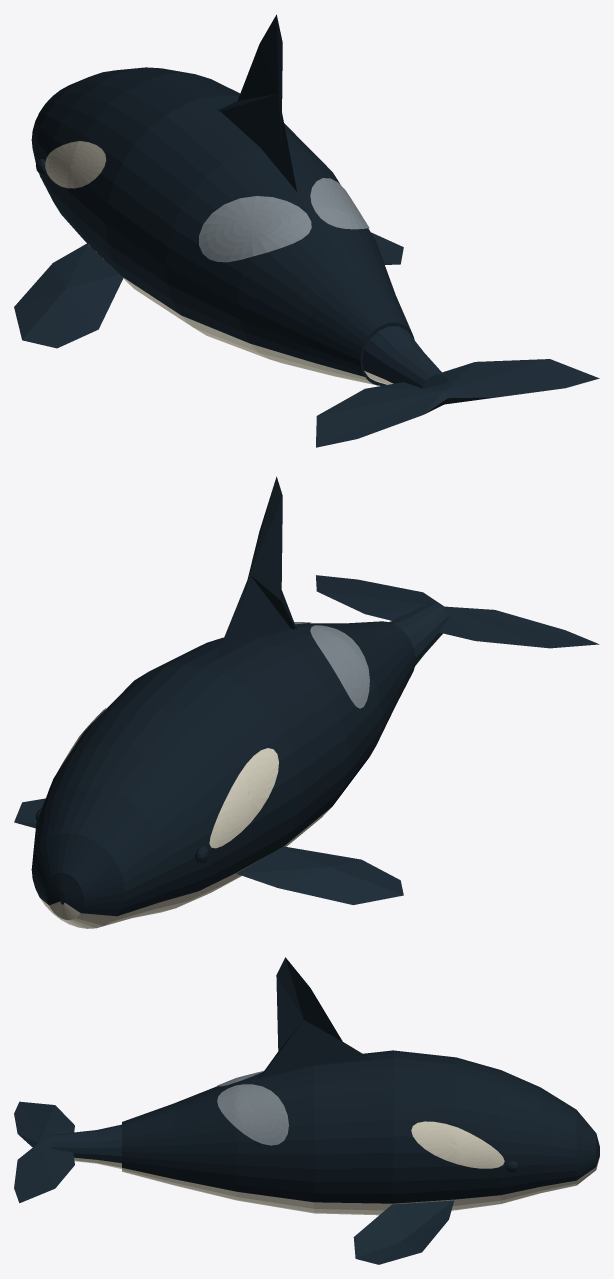
File: wild_orca.glb
3 renders of one model, top to bottom at view 1: azimuth 30°, elevation 25°; view 2: azimuth 150°, elevation 25°; view 3: azimuth 270°, elevation 25°, orthographic. The views are drawn at different scales.
Visible parts, largest first — view 1: Pigmented hull, Notched flukes, Rounded paddle, Peduncle, Rounded paddle.001; view 2: Pigmented hull, Notched flukes, Rounded paddle, Peduncle; view 3: Pigmented hull, Notched flukes, Rounded paddle.001, Peduncle.
Part boxes in pixels (x1=…): Pigmented hull: x1=31, y1=14, x2=414, y2=385; Notched flukes: x1=316, y1=359, x2=599, y2=447; Rounded paddle: x1=14, y1=243, x2=123, y2=348; Peduncle: x1=362, y1=326, x2=448, y2=388; Rounded paddle.001: x1=371, y1=232, x2=403, y2=264; Pigmented hull: x1=31, y1=476, x2=415, y2=928; Notched flukes: x1=316, y1=575, x2=599, y2=648; Rounded paddle: x1=236, y1=846, x2=403, y2=904; Peduncle: x1=389, y1=603, x2=448, y2=665; Pigmented hull: x1=122, y1=957, x2=599, y2=1215; Notched flukes: x1=14, y1=1101, x2=74, y2=1203; Rounded paddle.001: x1=353, y1=1200, x2=454, y2=1264; Peduncle: x1=51, y1=1124, x2=121, y2=1168.
Bounding box in the file's own units: 1.8 × 1.54 × 3.26.
